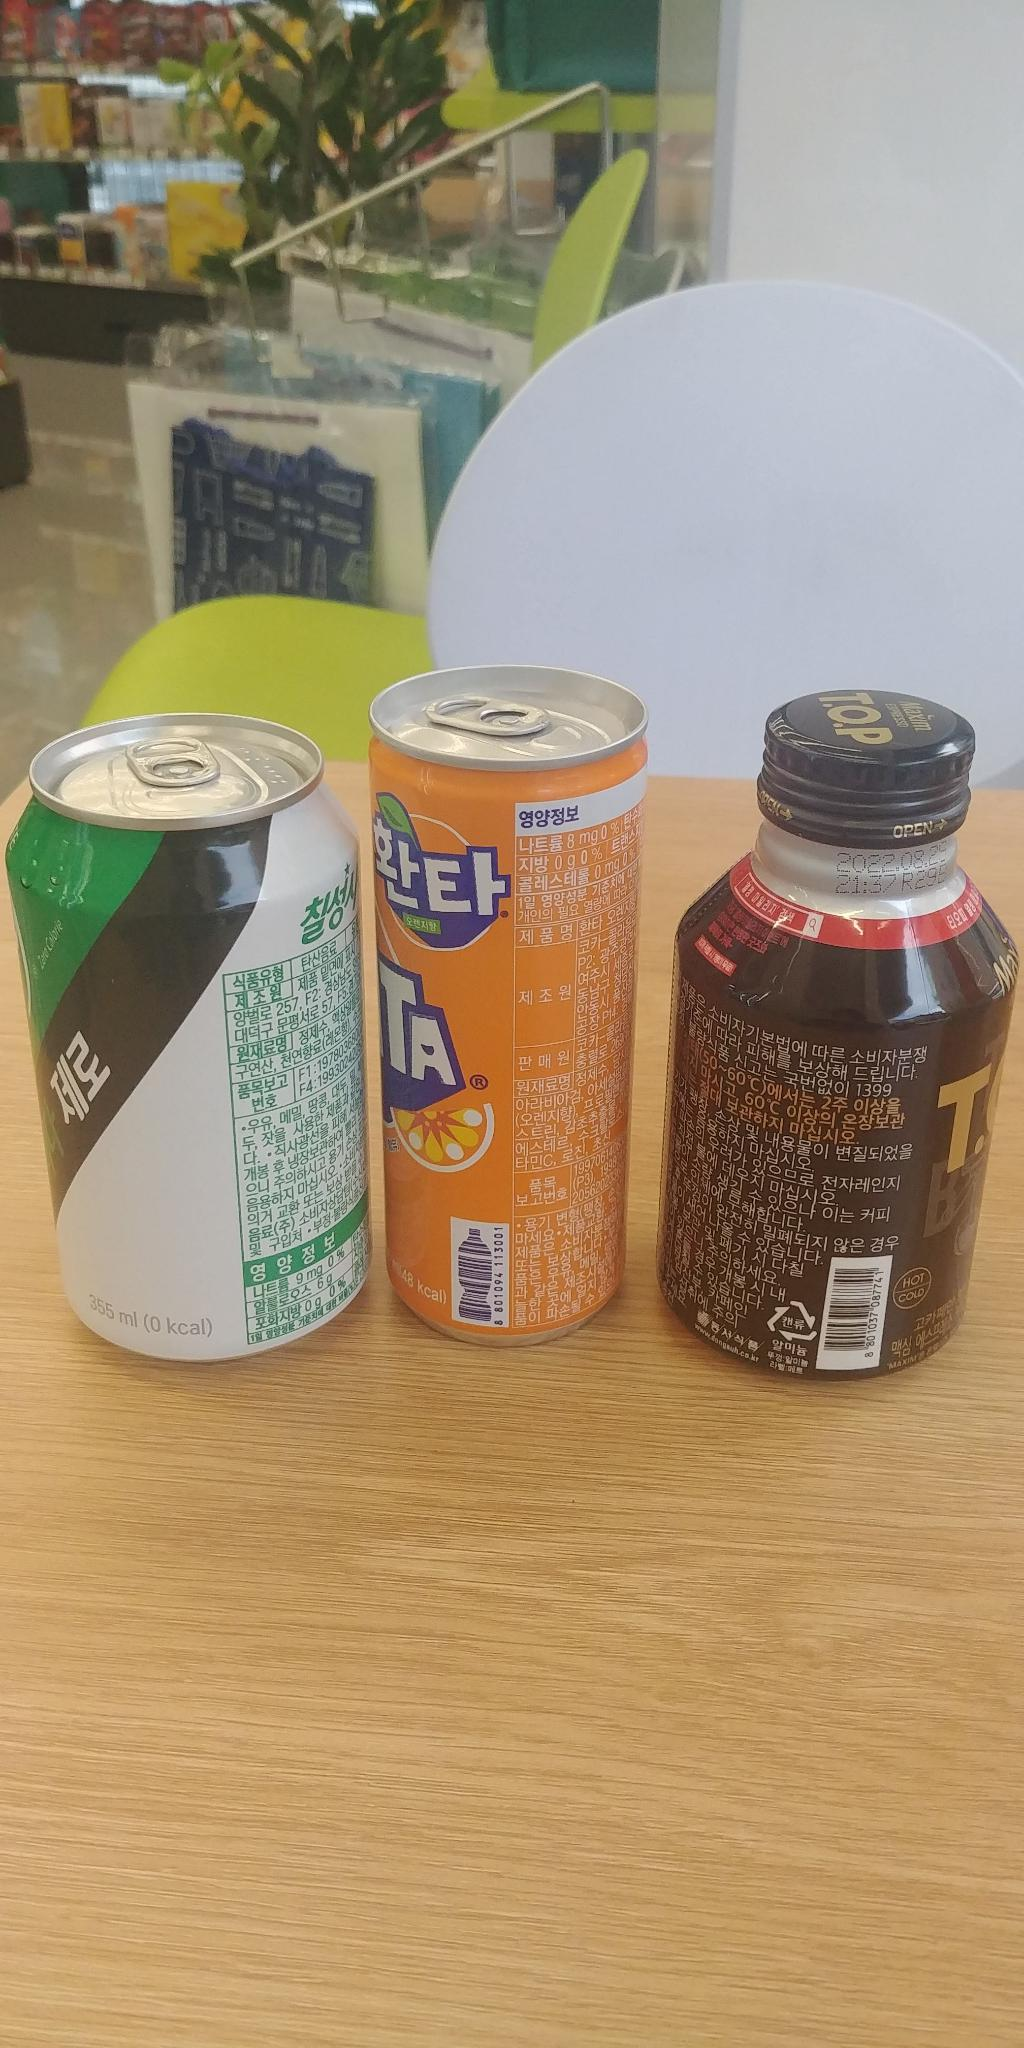TOP_black: (675, 654, 1021, 1365)
